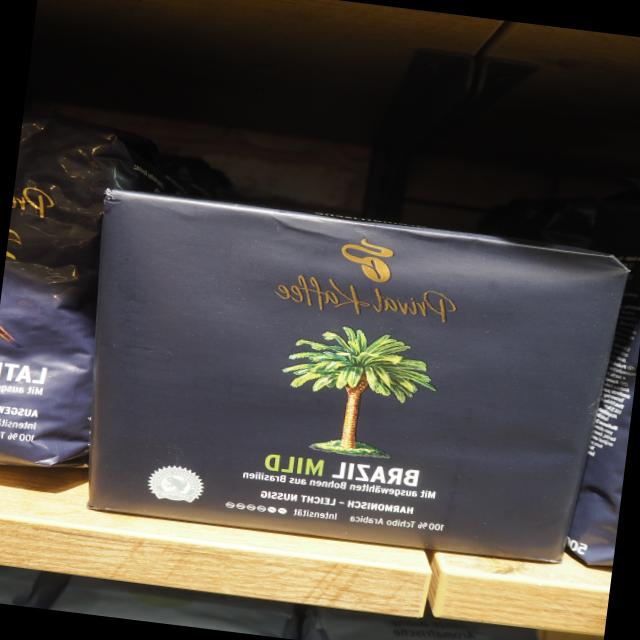BM Gemahlen: (82, 183, 635, 564)
